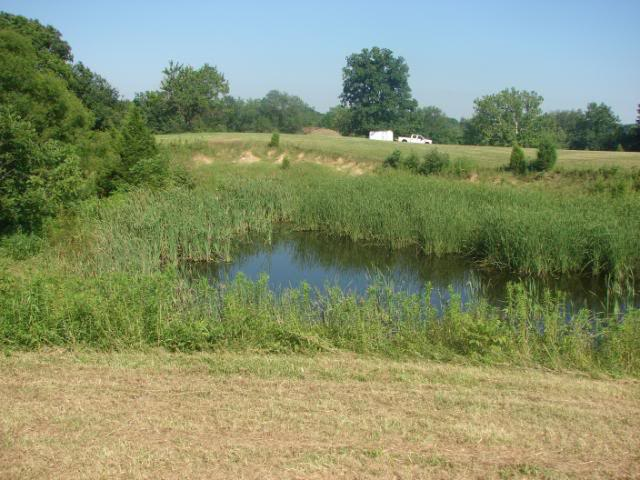sky: (58, 1, 343, 92), (419, 1, 640, 110), (324, 2, 435, 44)
tree: (94, 94, 172, 208), (337, 40, 414, 142), (151, 60, 227, 139), (468, 85, 552, 148)
vegetation: (93, 284, 640, 372), (107, 150, 640, 227), (1, 161, 160, 365)
water: (172, 207, 635, 323)
